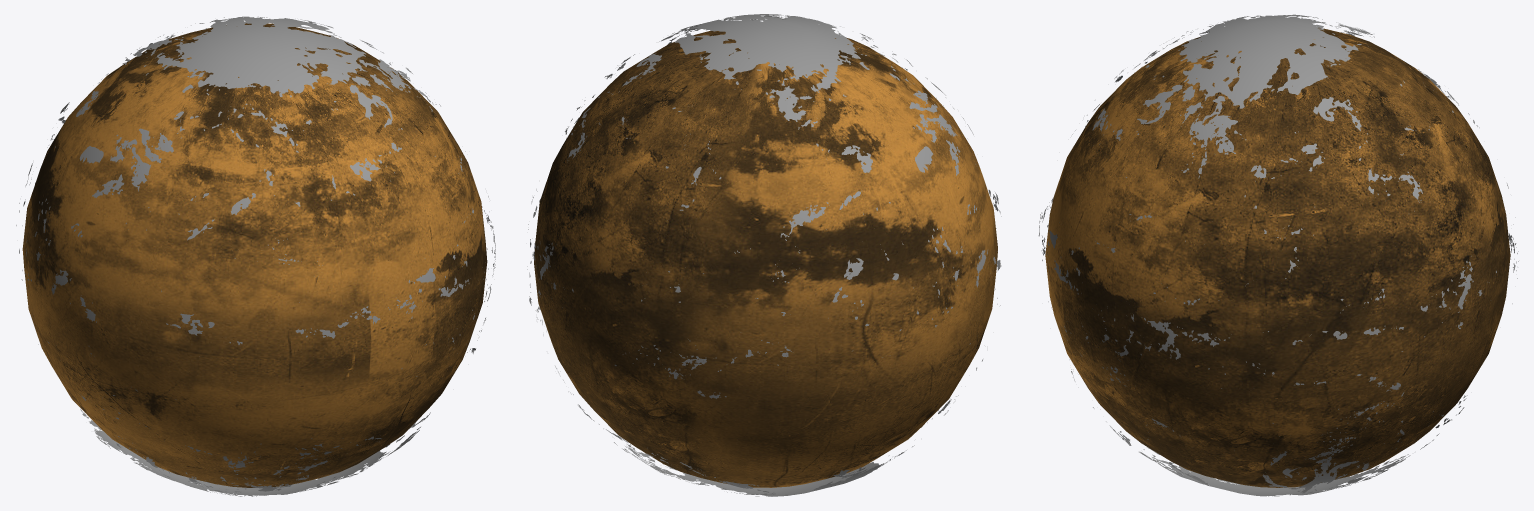
The model's file is planet.obj.
3 views of the same model, side by side, from view 1: azimuth 30°, elevation 25°; view 2: azimuth 150°, elevation 25°; view 3: azimuth 270°, elevation 25° (orthographic).
Parts seen in each view (by area): view 1: Sphere001, ciel; view 2: Sphere001, ciel; view 3: Sphere001, ciel.
Part boxes in pixels (<box>): Sphere001: <box>22,23,487,487</box>; ciel: <box>16,16,495,496</box>; Sphere001: <box>534,31,997,487</box>; ciel: <box>527,14,1001,496</box>; Sphere001: <box>1045,27,1510,487</box>; ciel: <box>1038,14,1518,496</box>.
Size of the model in its own units: 191 by 191 by 191.
Materials: 2 (1 with a texture image).
